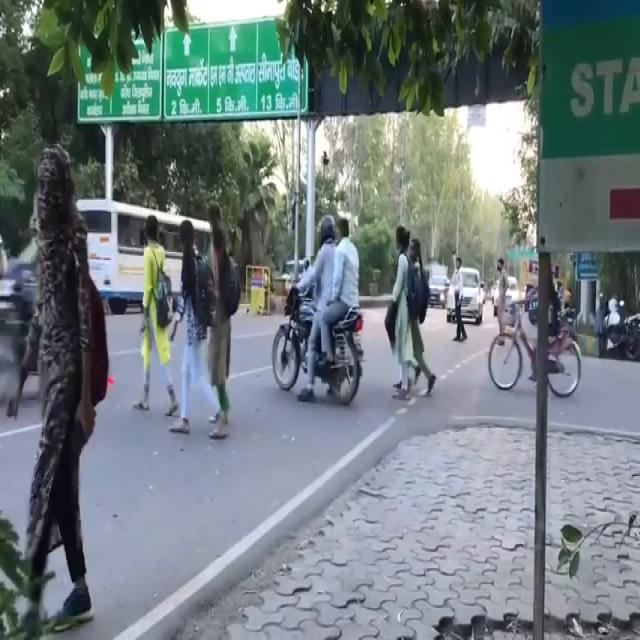MOTORCYCLE: (279, 287, 367, 405)
